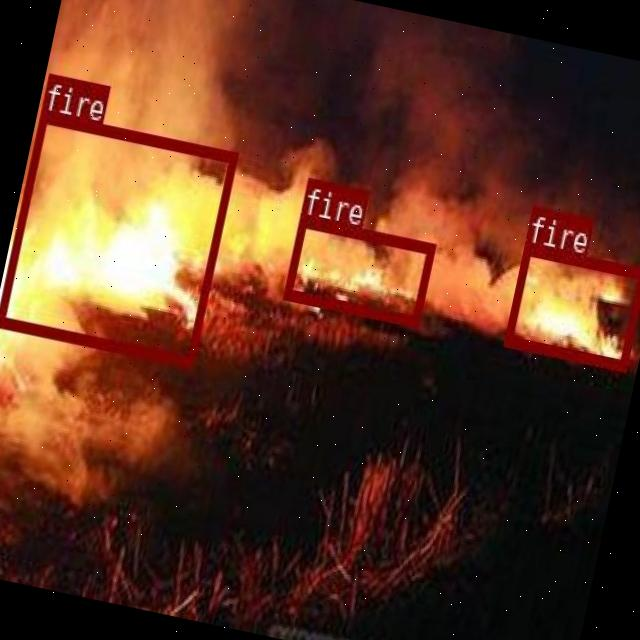fire: (0, 110, 237, 365), (503, 242, 640, 367), (282, 213, 433, 324)
